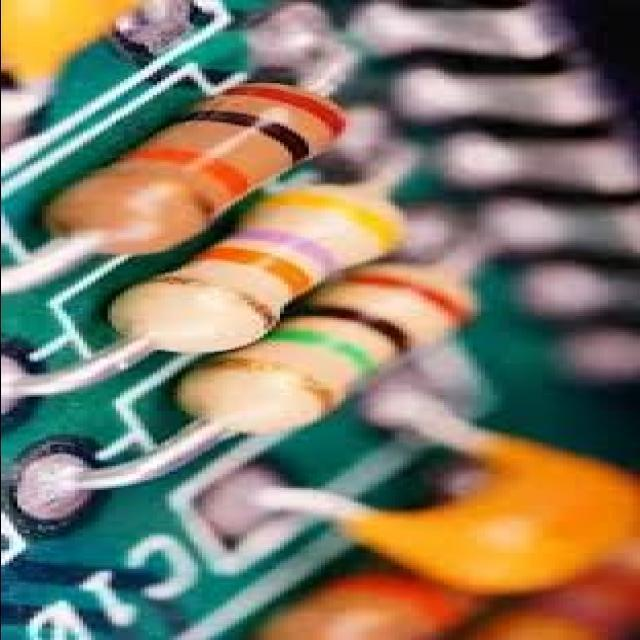capacitor: (33, 79, 353, 255), (172, 264, 484, 438), (102, 192, 406, 354)
